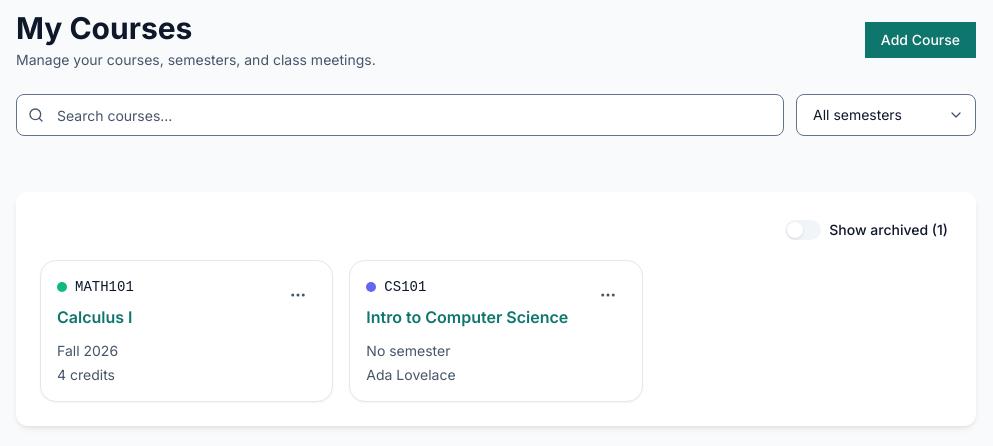
it: CoursesPage list (AC 1, AC 2) › includes the archived row with an Archived badge after toggling the switch (AC 2, D111-3)
The image size is (993, 446).
Click the switch labelled "Show archived (1)": click(867, 230) [781,216,952,244]
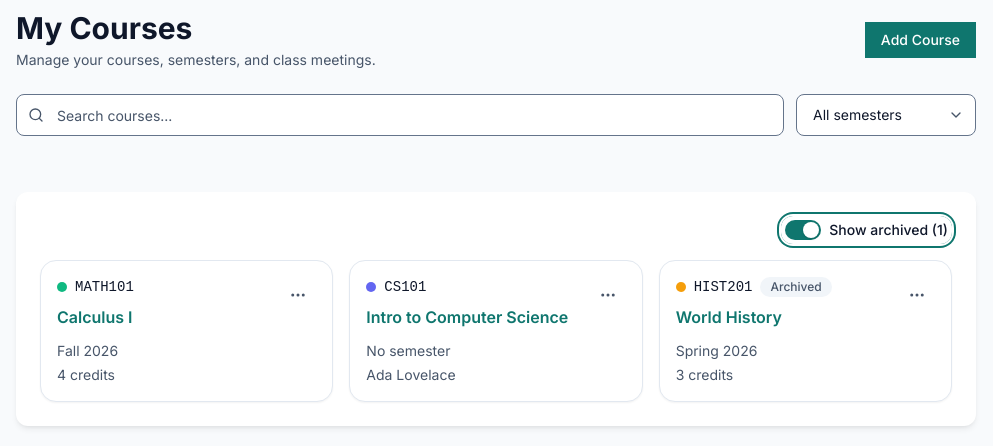
Check: the number of list items is 3, box [40,260,333,402]; [349,260,643,402]; [659,260,952,402]
Check: the list item "HIST201 Archived World History Spring 2026 3 credits" is shown, box [659,260,952,402]
